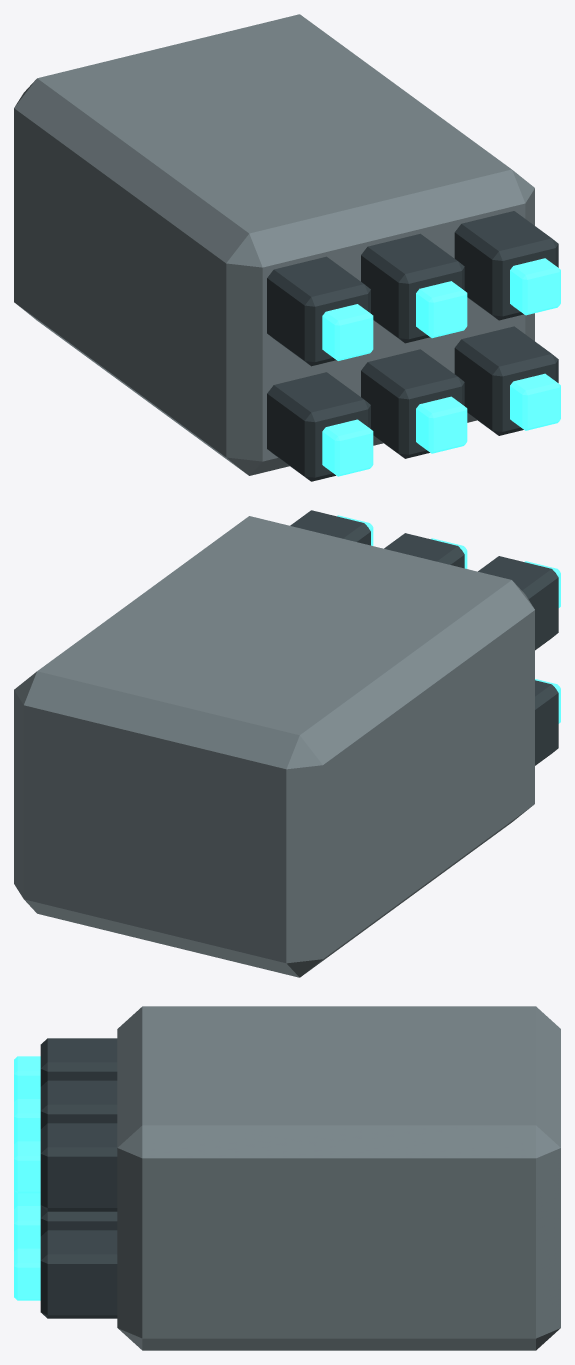
The model's file is WeaponRocket.fbx.
3 views of the same model, one above another, from view 1: azimuth 30°, elevation 25°; view 2: azimuth 150°, elevation 25°; view 3: azimuth 270°, elevation 25° (orthographic). The views are drawn at different scales.
Visible parts, largest first — view 1: Shoulder launcher, Launch tube.001, Launch tube, Launch tube.005, Launch tube.004, Launch tube.003, Launch tube.002, Rocket tip.002, Rocket tip, Rocket tip.001, Rocket tip.003, Rocket tip.004 (+1 smaller); view 2: Shoulder launcher, Launch tube.001, Launch tube, Launch tube.003, Launch tube.005; view 3: Shoulder launcher, Launch tube.004, Launch tube.005, Launch tube.003, Launch tube.001, Launch tube.002, Rocket tip.004, Rocket tip.005, Rocket tip.003, Rocket tip.001, Rocket tip.002.
Part boxes in pixels (x1,y1,x2,y2): Shoulder launcher: [14, 14, 534, 475]; Launch tube.001: [267, 256, 370, 366]; Launch tube: [267, 372, 370, 481]; Launch tube.005: [454, 211, 558, 320]; Launch tube.004: [454, 326, 558, 435]; Launch tube.003: [361, 233, 464, 343]; Launch tube.002: [361, 349, 464, 458]; Rocket tip.002: [416, 396, 467, 453]; Rocket tip: [322, 419, 373, 476]; Rocket tip.001: [322, 304, 373, 360]; Rocket tip.003: [416, 281, 467, 338]; Rocket tip.004: [510, 373, 560, 430]; Shoulder launcher: [14, 516, 534, 977]; Launch tube.001: [478, 556, 558, 650]; Launch tube: [535, 680, 558, 765]; Launch tube.003: [384, 533, 464, 568]; Launch tube.005: [290, 510, 370, 545]; Shoulder launcher: [117, 1006, 560, 1350]; Launch tube.004: [40, 1230, 117, 1318]; Launch tube.005: [40, 1123, 117, 1211]; Launch tube.003: [40, 1080, 117, 1128]; Launch tube.001: [40, 1038, 117, 1086]; Launch tube.002: [40, 1205, 117, 1236]; Rocket tip.004: [14, 1248, 40, 1300]; Rocket tip.005: [14, 1141, 40, 1193]; Rocket tip.003: [14, 1099, 40, 1143]; Rocket tip.001: [14, 1056, 40, 1101]; Rocket tip.002: [14, 1206, 40, 1251].
Bounding box in the file's own units: 0.56 × 0.42 × 0.925.
